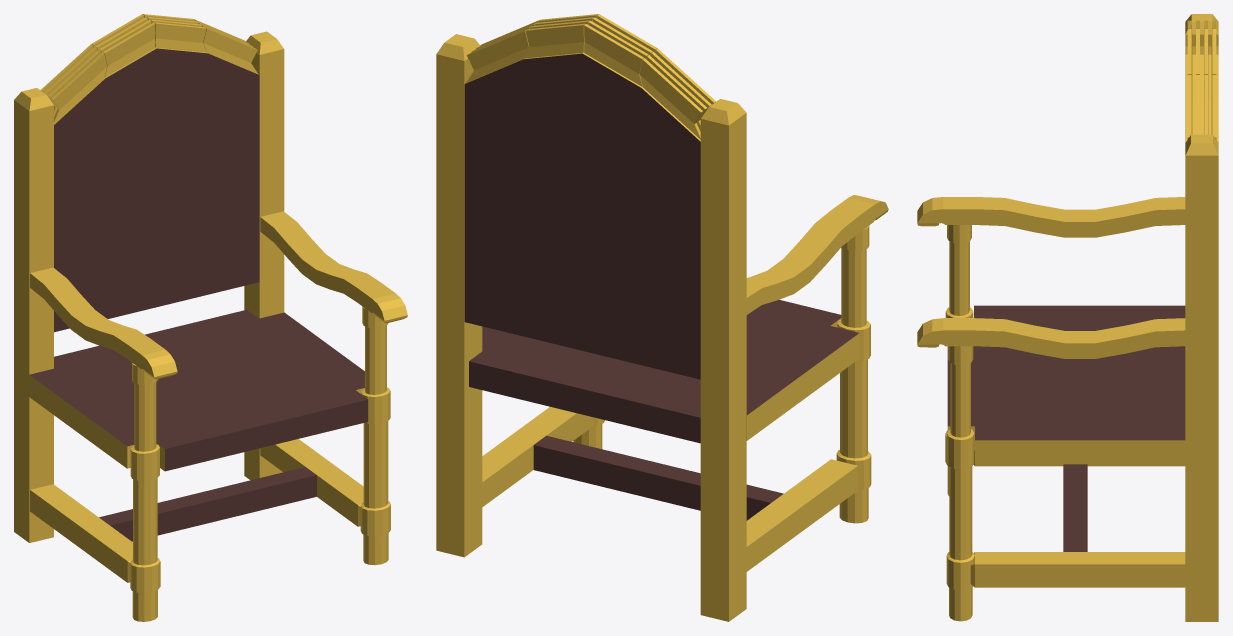
File: Kings_Chair.glb
The picture shows the model from 3 angles, left to right: view 1: azimuth 30°, elevation 25°; view 2: azimuth 150°, elevation 25°; view 3: azimuth 270°, elevation 25°; orthographic projection. The views are drawn at different scales.
Parts seen in each view (by area): view 1: Chair; view 2: Chair; view 3: Chair.
Boxes of the visible parts, x1,y1,x2,y2 form: Chair: (14,14,407,621); Chair: (436,14,888,621); Chair: (917,14,1218,621).
Size of the model in its own units: 2.04 by 3.68 by 1.91.
